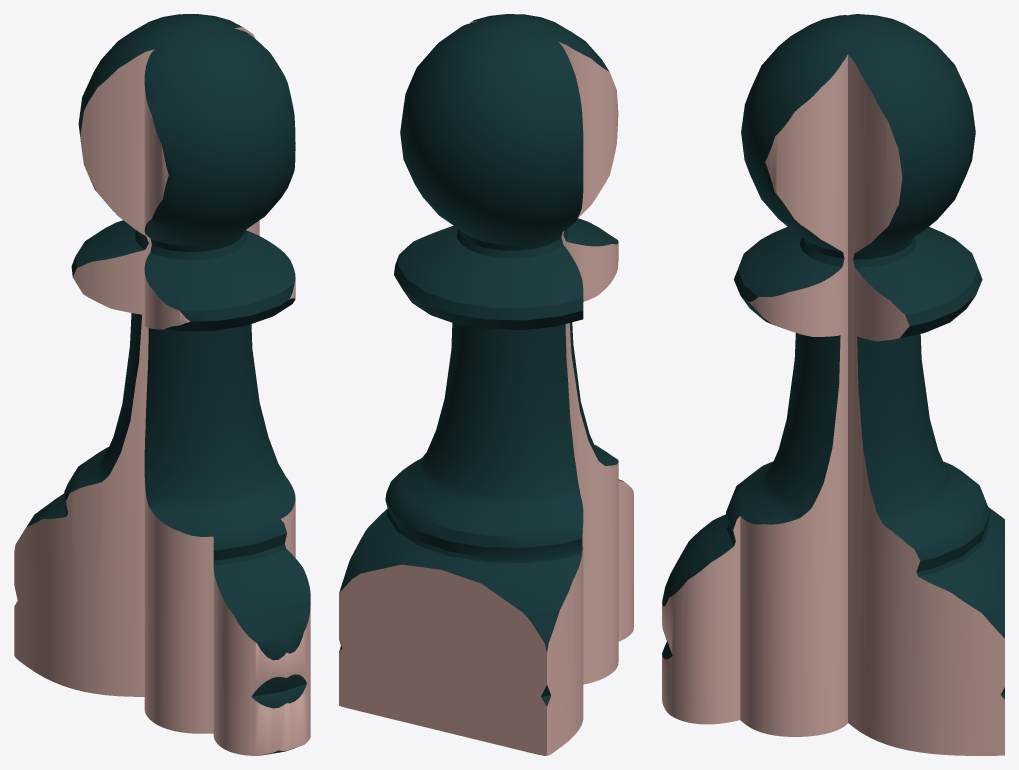
3 views of the same model, side by side, from view 1: azimuth 30°, elevation 25°; view 2: azimuth 150°, elevation 25°; view 3: azimuth 270°, elevation 25° (orthographic). The views are drawn at different scales.
Visible parts, largest first — view 1: PijunB.008; view 2: PijunB.008; view 3: PijunB.008.
Part boxes in pixels (x1,y1,x2,y2): PijunB.008: (14,14,310,755); PijunB.008: (339,14,633,755); PijunB.008: (662,14,1004,755).
Size of the model in its own units: 0.0179 by 0.0537 by 0.0246.
